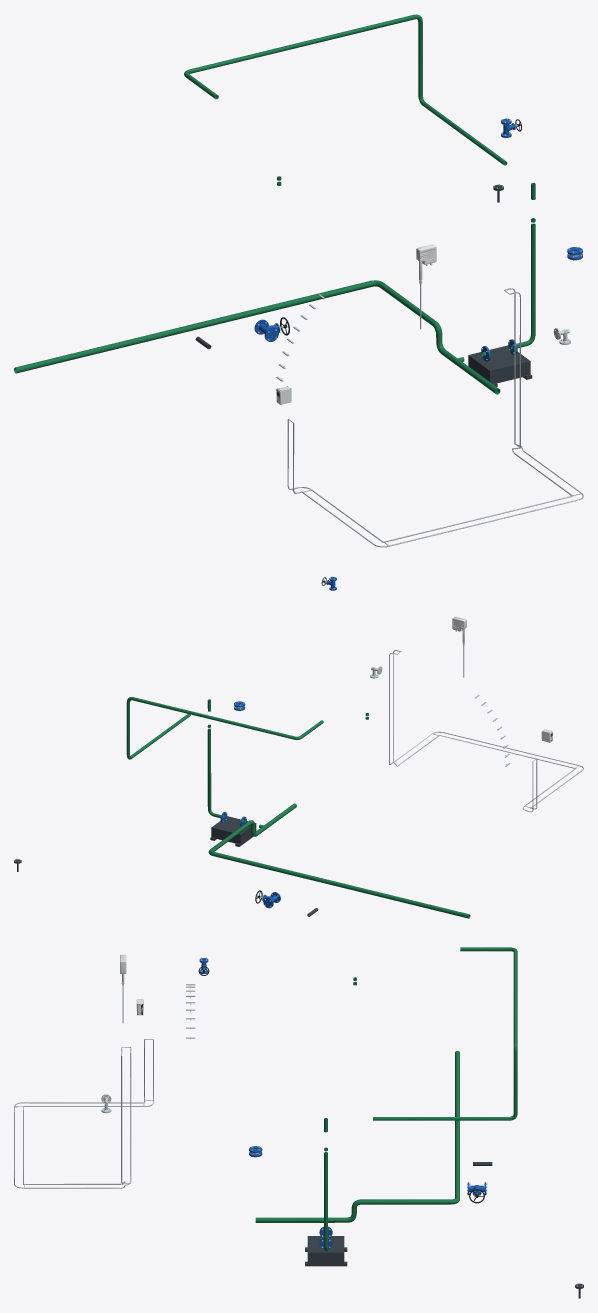
Rendered from s4000-1-BLB7sWl7.glb.
3 views of the same model, one above another, from view 1: azimuth 30°, elevation 25°; view 2: azimuth 150°, elevation 25°; view 3: azimuth 270°, elevation 25° (orthographic). The views are drawn at different scales.
Parts seen in each view (by area): view 1: suction_common / green, cables / zinc, to_direct / green, pump_branch_2 / dark, pump_branch_2 / green; view 2: suction_common / green, to_direct / green, cables / zinc, pump_branch_2 / dark, pump_branch_2 / green; view 3: suction_common / green, cables / zinc, to_direct / green, pump_branch_2 / dark, pump_branch_2 / green.
Part boxes in pixels (box(x1,y1,x2,y2)): suction_common / green: box(14, 280, 500, 394); cables / zinc: box(287, 288, 583, 547); to_direct / green: box(184, 14, 507, 165); pump_branch_2 / dark: box(468, 345, 532, 386); pump_branch_2 / green: box(458, 183, 535, 361); suction_common / green: box(208, 803, 470, 918); to_direct / green: box(126, 697, 313, 759); cables / zinc: box(389, 650, 583, 812); pump_branch_2 / dark: box(210, 816, 256, 846); pump_branch_2 / green: box(207, 699, 263, 827); suction_common / green: box(255, 1051, 459, 1222); cables / zinc: box(14, 1039, 153, 1188); to_direct / green: box(373, 947, 517, 1120); pump_branch_2 / dark: box(305, 1236, 347, 1266); pump_branch_2 / green: box(324, 1118, 327, 1251).
Size of the model in its own units: 5.8 by 3.2 by 6.07.
